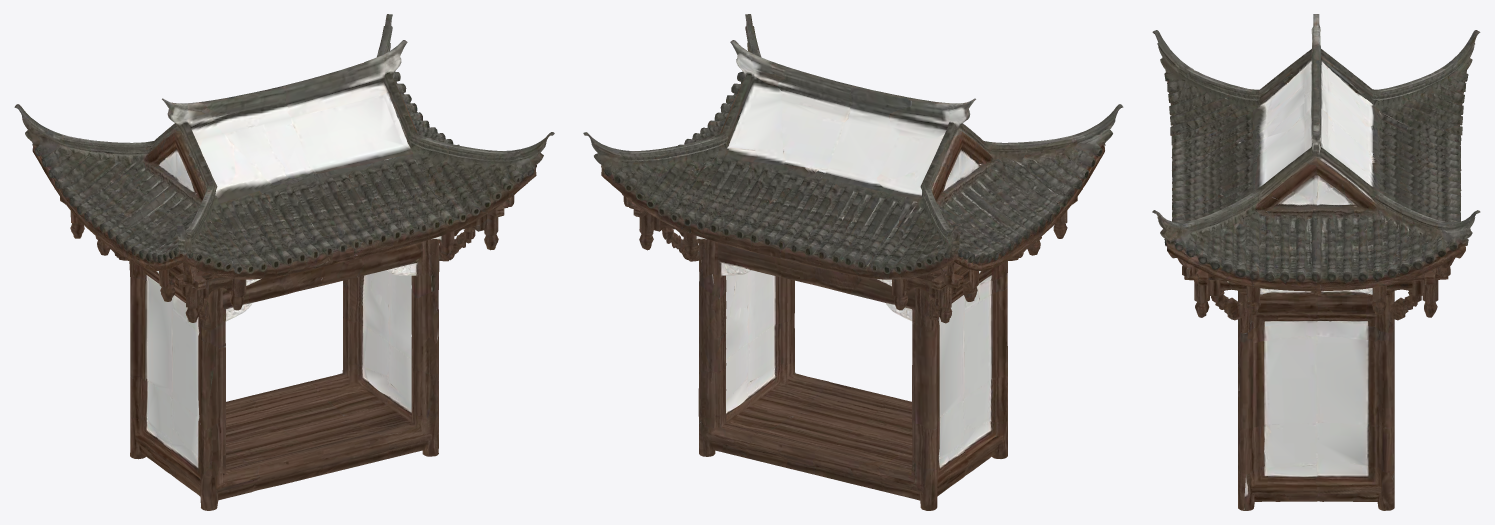
File: lib_wood_pavilion.glb
3 views of the same model, side by side, from view 1: azimuth 30°, elevation 25°; view 2: azimuth 150°, elevation 25°; view 3: azimuth 270°, elevation 25° (orthographic).
Size of the model in its own units: 1.9 by 1.84 by 1.43.
Materials: 1 (1 with a texture image).
